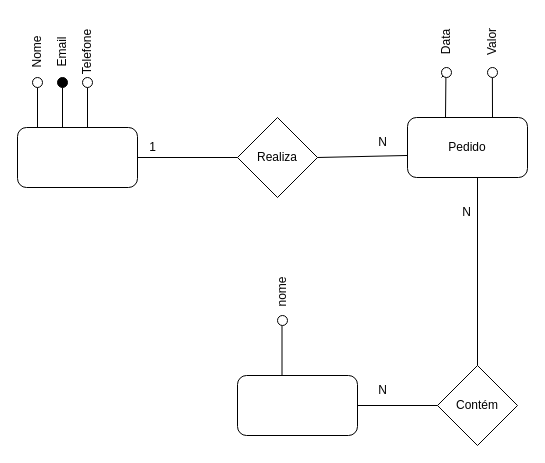
This 545x463 diagram has some shape labels left out. The shapes that lost their labels are listed below. From the top down, each one's centre as x and y in pixels, then its label:
point (77, 157): Cliente
point (297, 405): Produto
